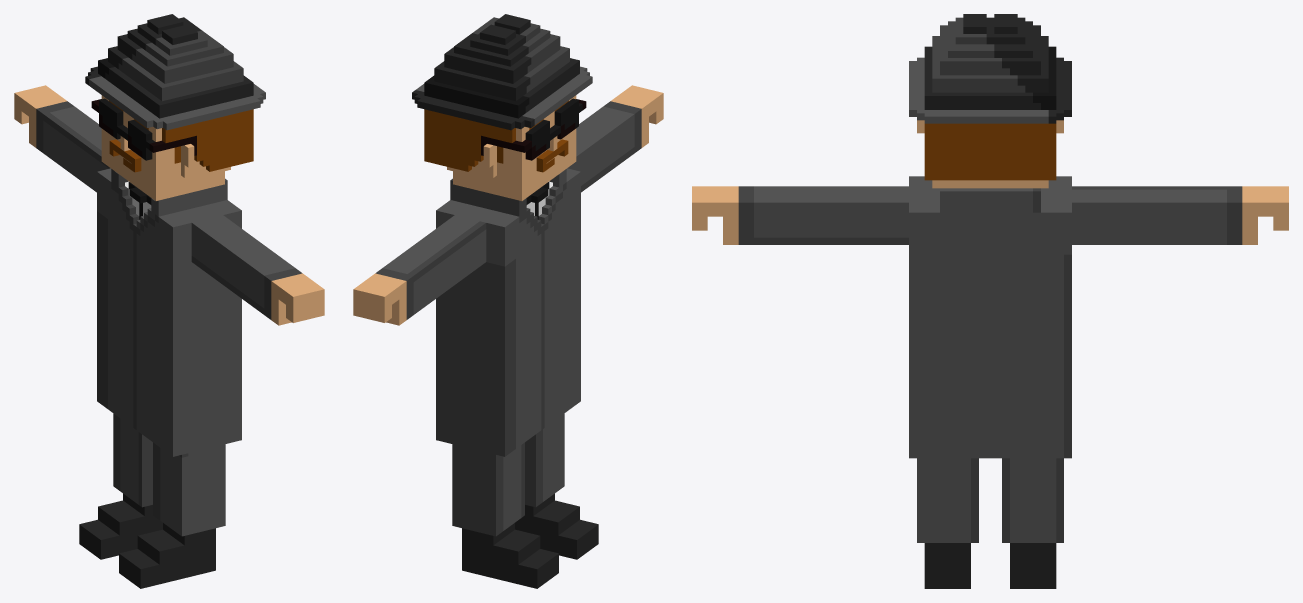
Rendered from mystery man.obj.
3 views of the same model, side by side, from view 1: azimuth 30°, elevation 25°; view 2: azimuth 150°, elevation 25°; view 3: azimuth 270°, elevation 25° (orthographic). The views are drawn at different scales.
Size of the model in its own units: 2 by 8 by 7.7.
1 material, 1 textured.
